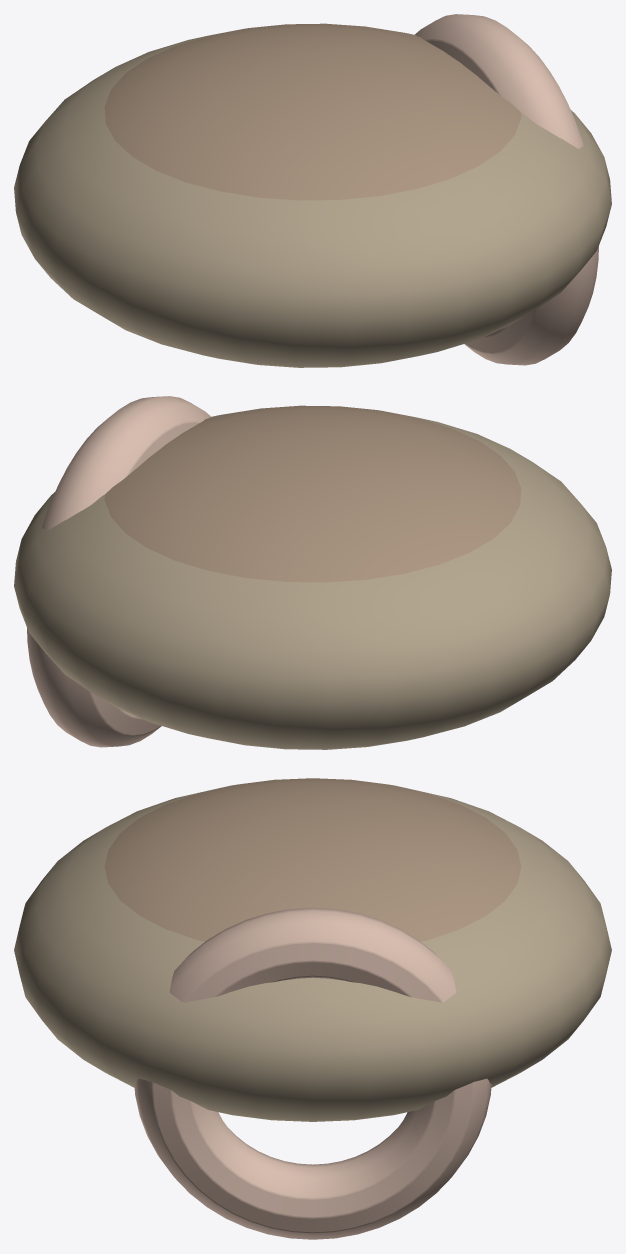
The model's file is SM_ANM_ShellmawAmbusher.fbx.
3 renders of one model, top to bottom at view 1: azimuth 30°, elevation 25°; view 2: azimuth 150°, elevation 25°; view 3: azimuth 270°, elevation 25°, orthographic.
Parts seen in each view (by area): view 1: SM_ANM_ShellmawAmbusher; view 2: SM_ANM_ShellmawAmbusher; view 3: SM_ANM_ShellmawAmbusher.
Part boxes in pixels (x1,y1,x2,y2): SM_ANM_ShellmawAmbusher: (14, 14, 611, 367); SM_ANM_ShellmawAmbusher: (14, 396, 611, 749); SM_ANM_ShellmawAmbusher: (14, 778, 611, 1239).
Size of what is drawn, in the model's own units: 1.9 by 1.14 by 1.9.
